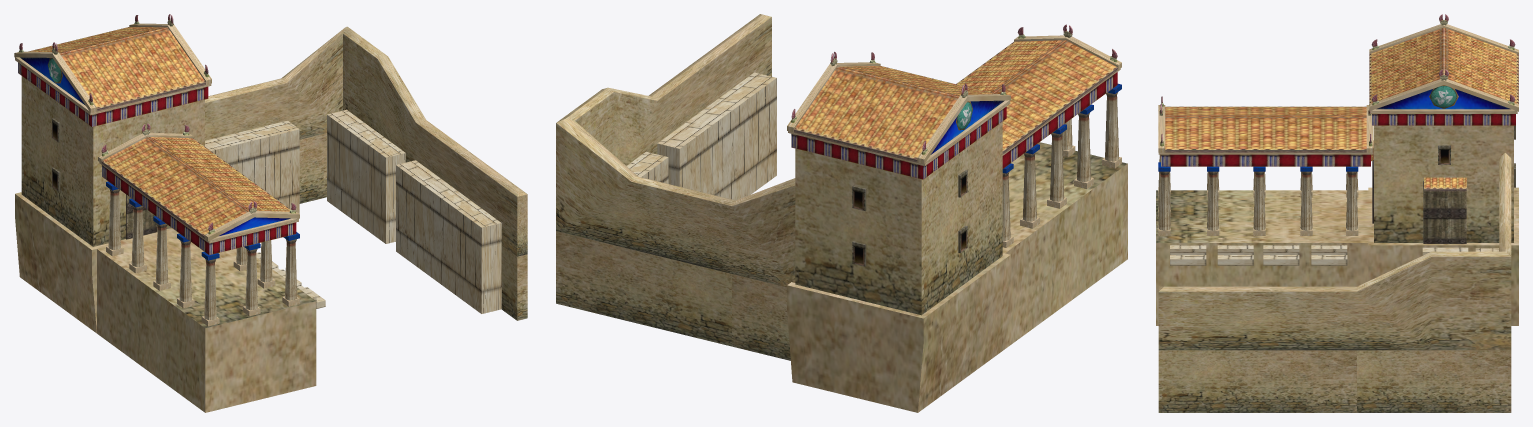
The model's file is range.dae.
3 renders of one model, left to right at view 1: azimuth 30°, elevation 25°; view 2: azimuth 150°, elevation 25°; view 3: azimuth 270°, elevation 25°, orthographic. The views are drawn at different scales.
Visible parts, largest first — view 1: range; view 2: range; view 3: range.
Part boxes in pixels (<box>): range: <box>14,14,527,412</box>; range: <box>556,14,1127,412</box>; range: <box>1156,14,1518,412</box>.
Bounding box in the file's own units: 25.17 × 24.52 × 19.2.
